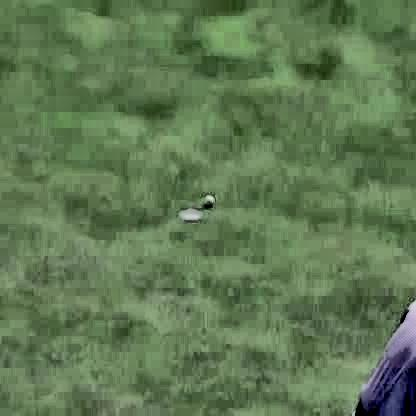golfball: (202, 190, 212, 201)
